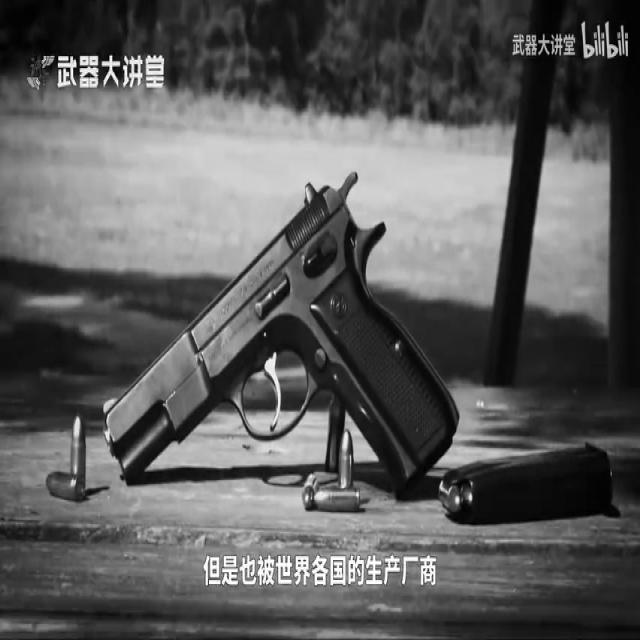Hand-Gun: (90, 152, 462, 495)
